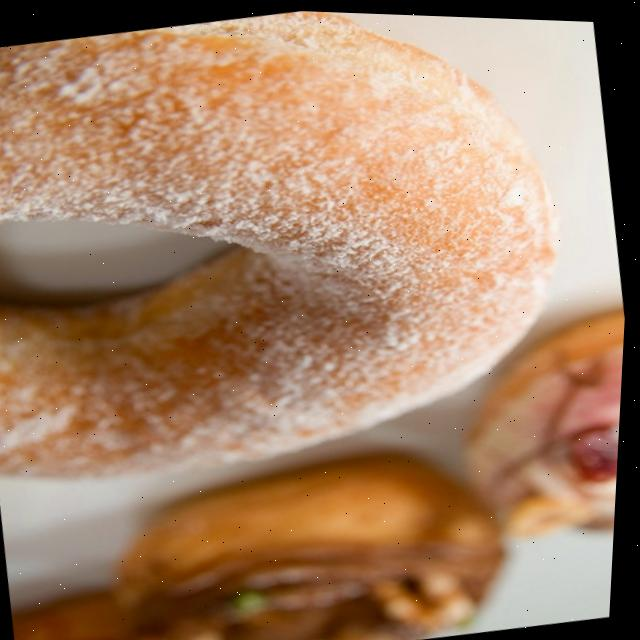炸货点心: (0, 0, 603, 579)
